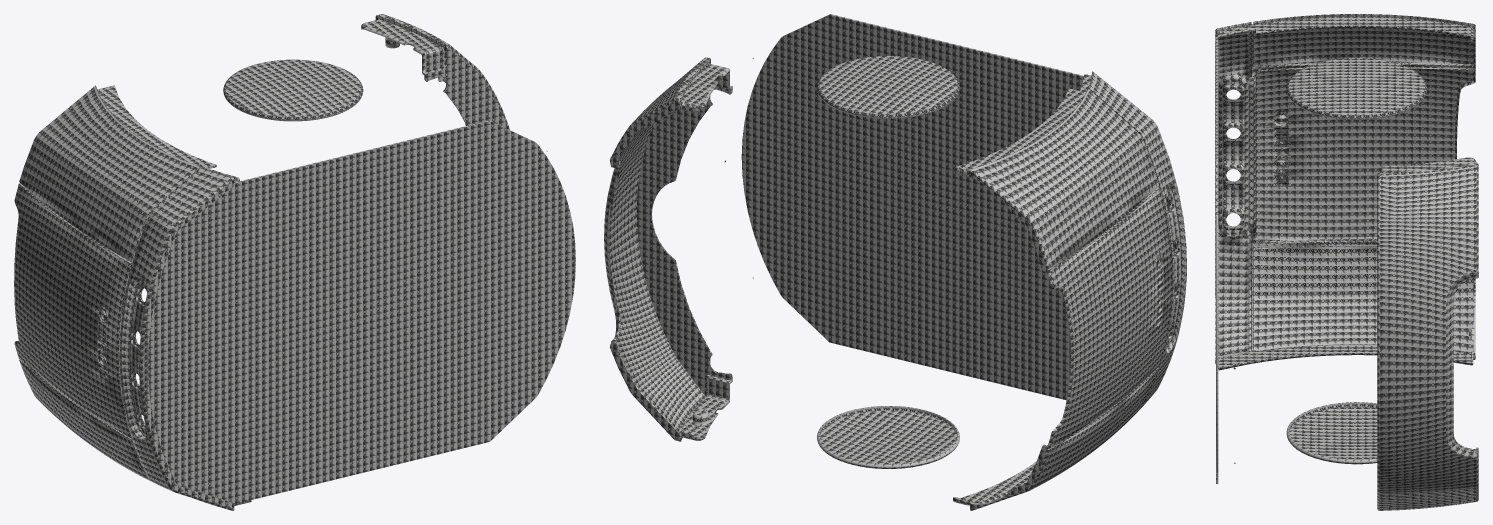
Rendered from omron_5.obj.
3 views of the same model, side by side, from view 1: azimuth 30°, elevation 25°; view 2: azimuth 150°, elevation 25°; view 3: azimuth 270°, elevation 25° (orthographic). The views are drawn at different scales.
Size of the model in its own units: 0.6972 by 0.498 by 0.3368.
